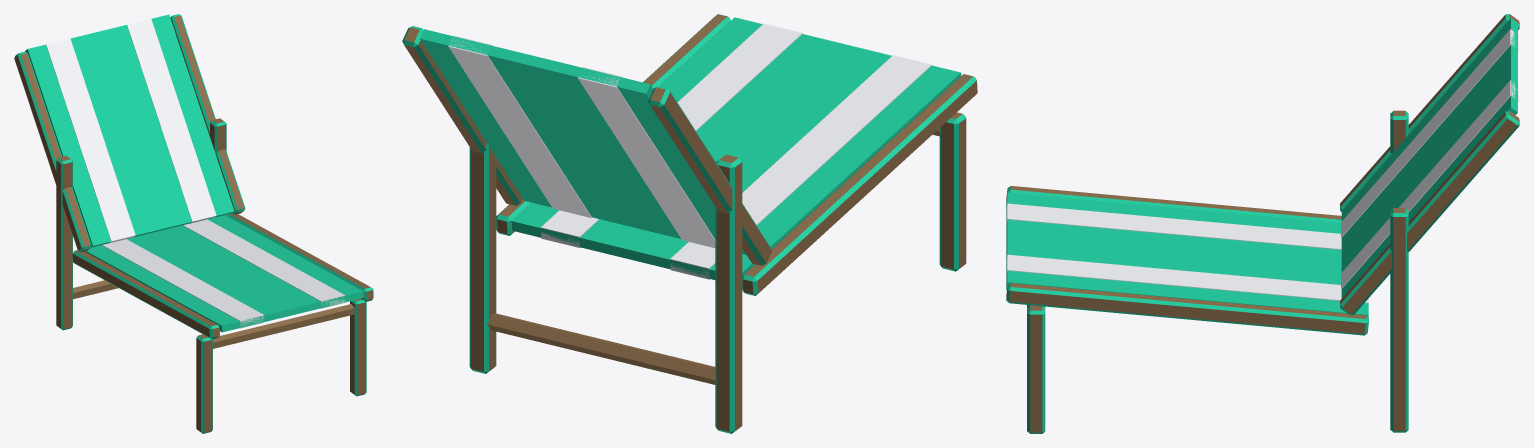
The model's file is deckChair.glb.
The picture shows the model from 3 angles, left to right: view 1: azimuth 30°, elevation 25°; view 2: azimuth 150°, elevation 25°; view 3: azimuth 270°, elevation 25°; orthographic projection. The views are drawn at different scales.
Visible parts, largest first — view 1: deckChair-m; view 2: deckChair-m; view 3: deckChair-m.
Boxes of the visible parts, x1,y1,x2,y2 form: deckChair-m: (14,14,373,433); deckChair-m: (402,14,977,433); deckChair-m: (1006,14,1519,433).
Size of the model in its own units: 0.82 by 1.17 by 1.7.
